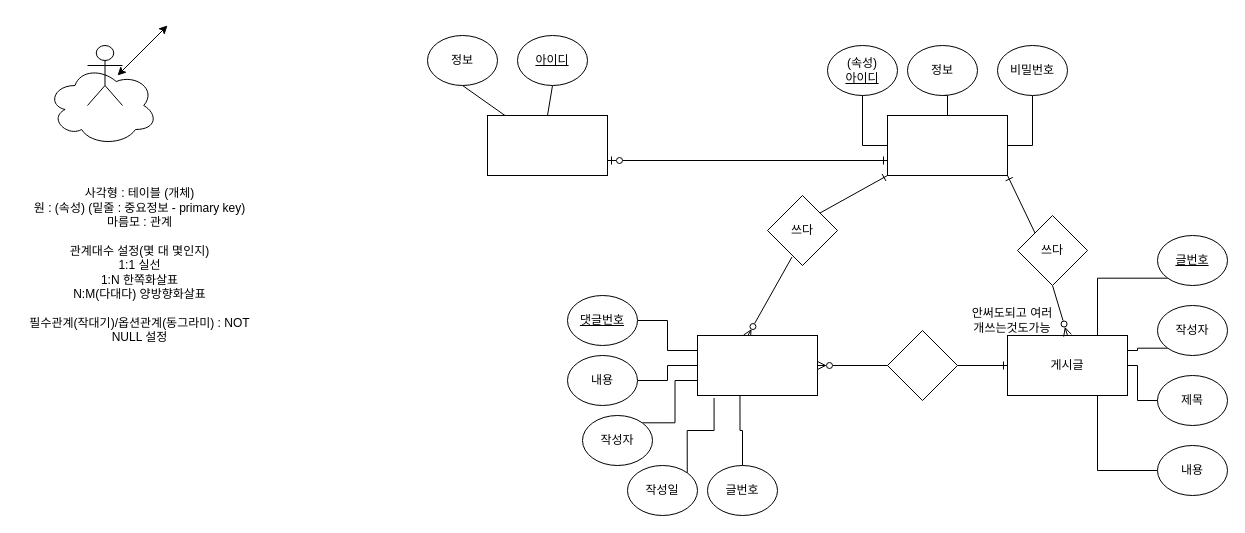
The diagram is 1245 pixels wide and 533 high, and some of its shapes have lost their labels. Here are the shapes that lost their labels. From the top down, the centre of each, then its label:
the point at 104,75: Actor
the point at 547,145: 관리자
the point at 947,145: 회원 (개체)
the point at 757,365: 댓글
the point at 922,365: 포함
